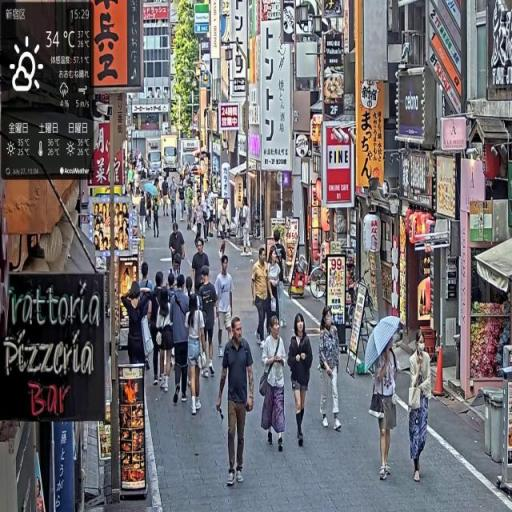person: (217, 315, 256, 488), (371, 333, 402, 484), (407, 328, 433, 486), (259, 315, 288, 455), (288, 312, 315, 451), (170, 272, 193, 408), (319, 307, 343, 434), (185, 289, 208, 418), (198, 268, 220, 380), (251, 247, 273, 349), (215, 255, 236, 358), (191, 238, 212, 297), (170, 224, 187, 273)
